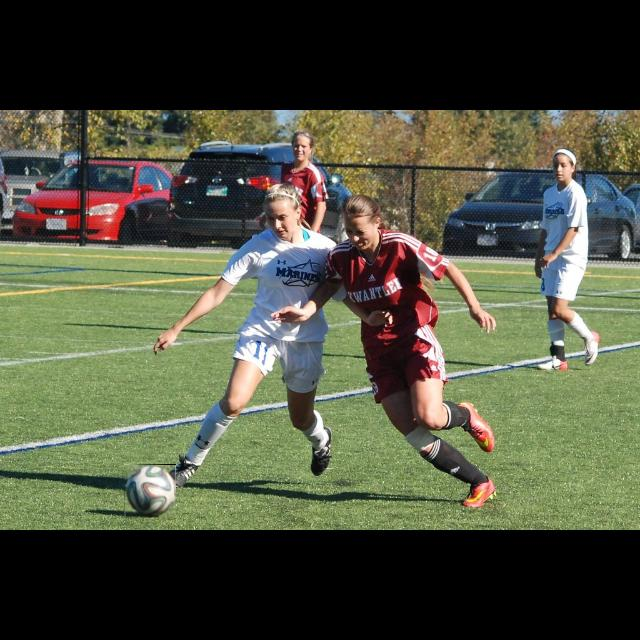Football: (124, 464, 176, 518)
